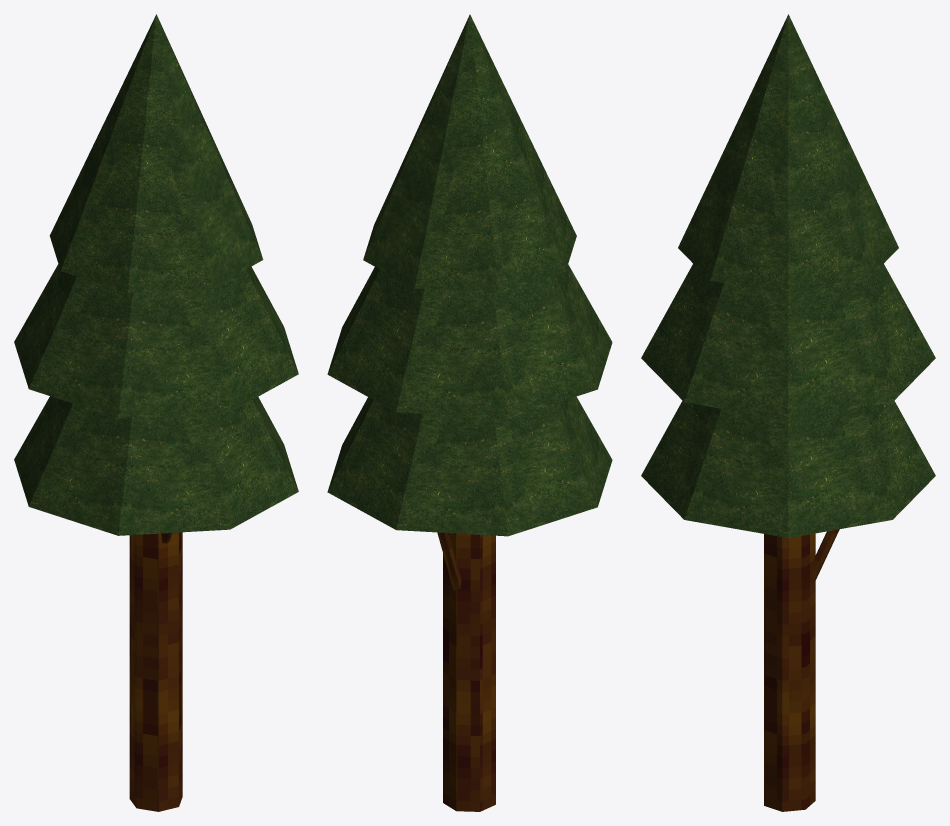
Rendered from Tree2.obj.
3 renders of one model, left to right at view 1: azimuth 30°, elevation 25°; view 2: azimuth 150°, elevation 25°; view 3: azimuth 270°, elevation 25°, orthographic.
Parts seen in each view (by area): view 1: Cone.001, Cone.002, Cone, Cylinder; view 2: Cone.001, Cone.002, Cone, Cylinder, Cylinder.001; view 3: Cone.001, Cone.002, Cone, Cylinder, Cylinder.001.
Part boxes in pixels (box(x1,y1,x2,y2)): Cone.001: box(49, 14, 263, 292); Cone.002: box(14, 264, 298, 418); Cone: box(14, 396, 298, 535); Cylinder: box(129, 532, 182, 811); Cone.001: box(363, 14, 576, 293); Cone.002: box(327, 264, 612, 418); Cone: box(327, 396, 612, 536); Cylinder: box(443, 533, 495, 811); Cylinder.001: box(437, 532, 461, 590); Cone.001: box(678, 14, 898, 294); Cone.002: box(641, 264, 935, 420); Cone: box(641, 401, 935, 537); Cylinder: box(764, 533, 815, 811); Cylinder.001: box(813, 529, 839, 582).
Bounding box in the file's own units: 4 × 11.77 × 4.
